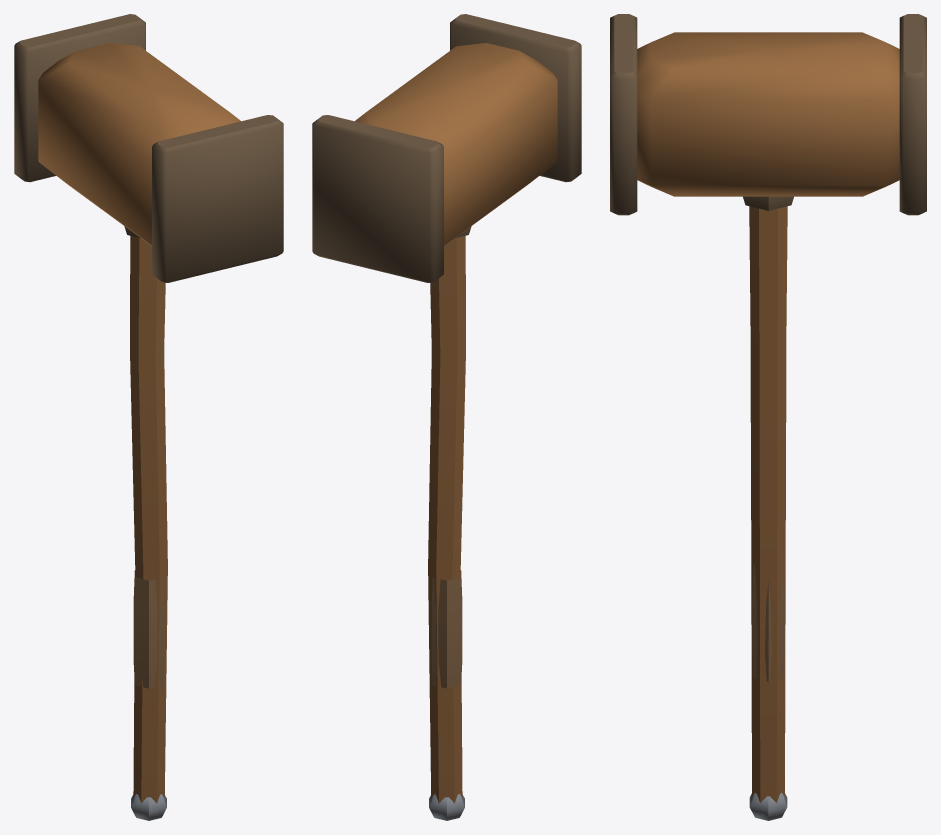
The model's file is warhammer-timber.glb.
The picture shows the model from 3 angles, left to right: view 1: azimuth 30°, elevation 25°; view 2: azimuth 150°, elevation 25°; view 3: azimuth 270°, elevation 25°; orthographic projection. The views are drawn at different scales.
Visible parts, largest first — view 1: warhammer-timber; view 2: warhammer-timber; view 3: warhammer-timber.
Part boxes in pixels (box(x1,y1,x2,y2)): warhammer-timber: box(14, 14, 283, 820); warhammer-timber: box(312, 14, 581, 820); warhammer-timber: box(610, 14, 926, 820).
Bounding box in the file's own units: 0.19 × 1.09 × 0.405.
